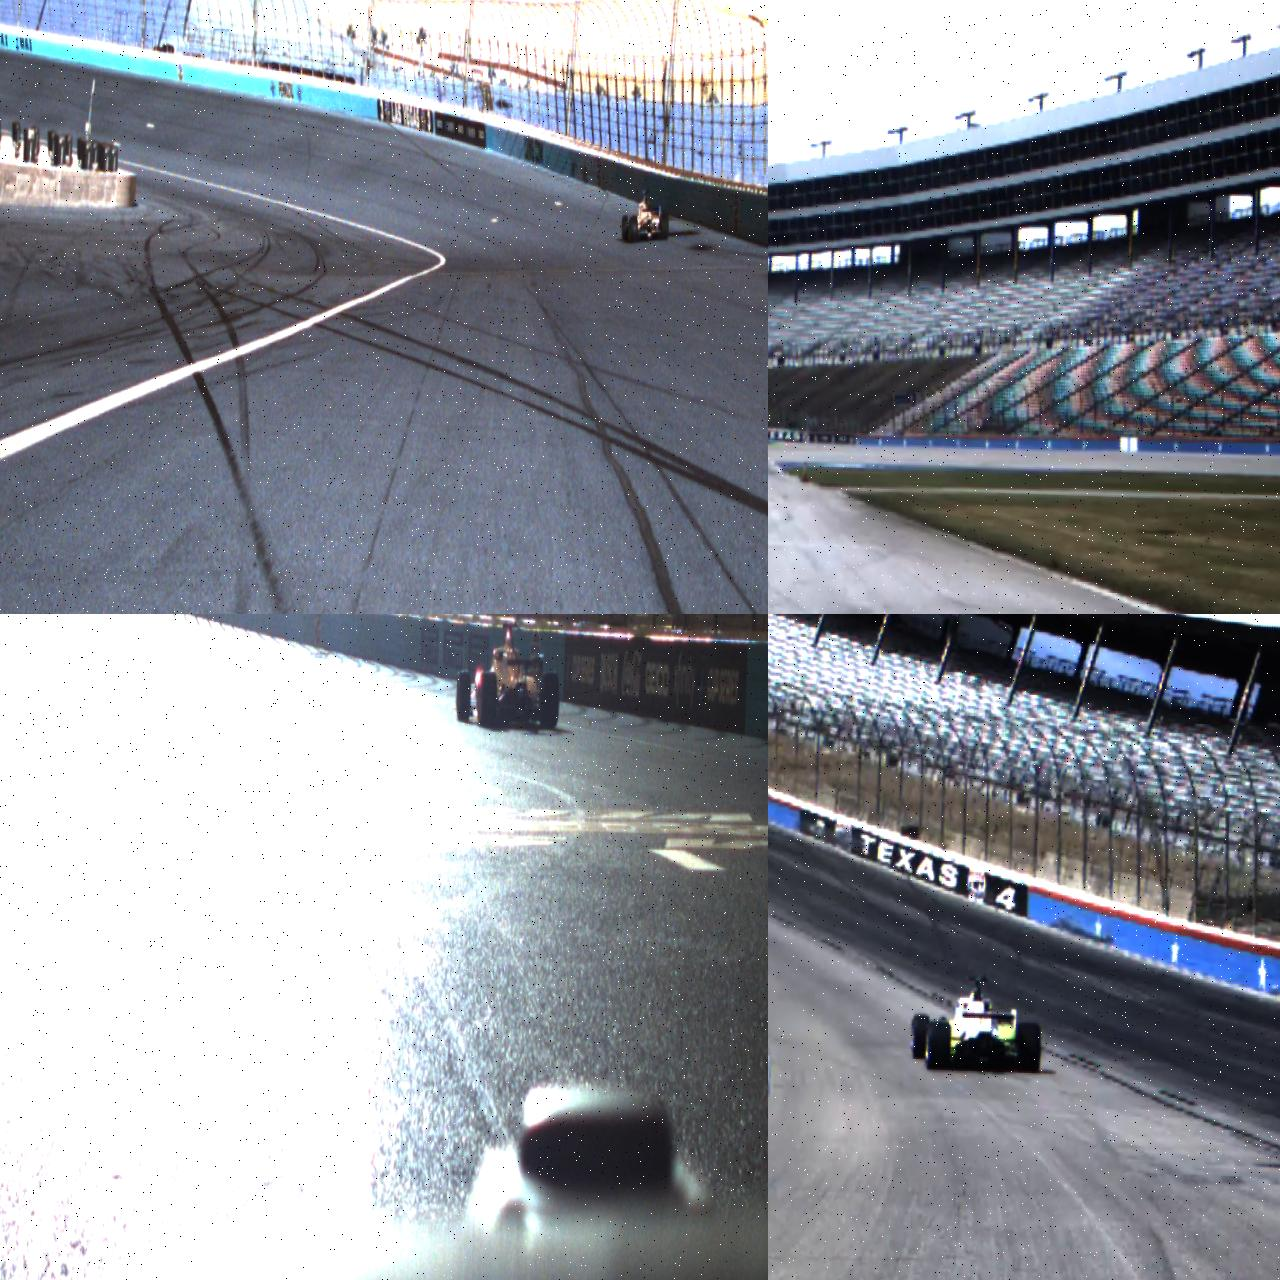AV: (909, 972, 1044, 1075), (452, 617, 562, 729), (620, 189, 670, 243)
Wheel: (924, 1021, 951, 1071), (1016, 1022, 1042, 1072), (538, 670, 560, 729), (476, 671, 496, 726), (910, 1012, 930, 1060), (455, 669, 471, 722), (627, 216, 637, 242), (660, 214, 669, 238), (621, 215, 628, 239)
